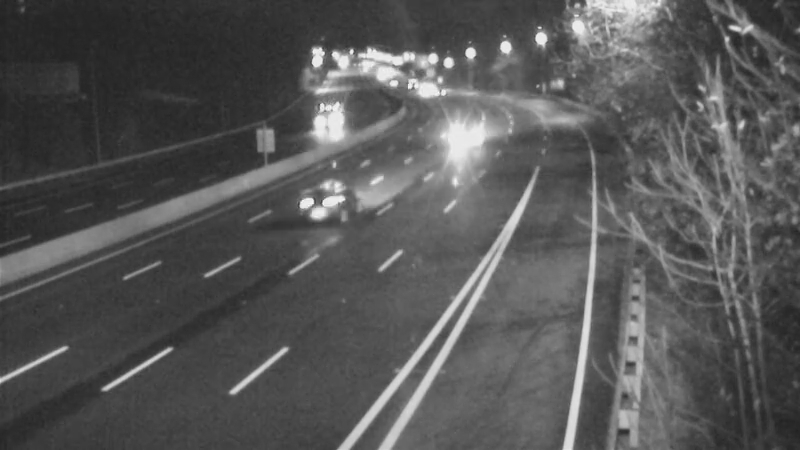vehicle: (284, 171, 364, 251), (403, 61, 453, 111), (438, 109, 488, 159), (304, 106, 354, 156)
